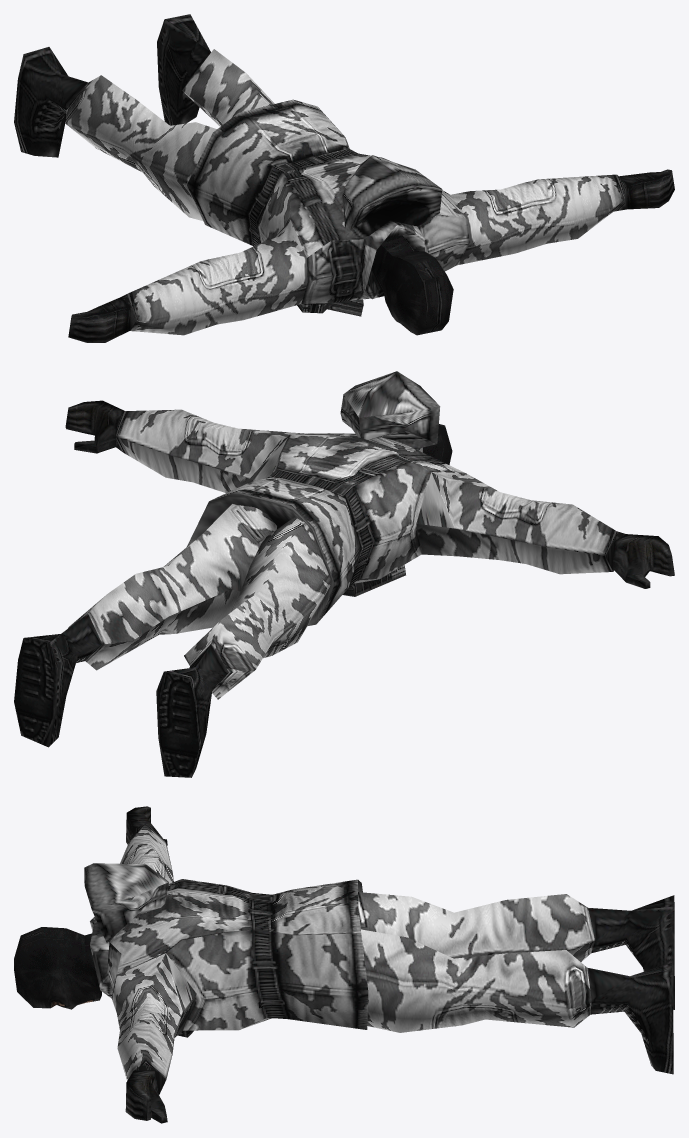
Rendered from arcticout.obj.
The picture shows the model from 3 angles, top to bottom: view 1: azimuth 30°, elevation 25°; view 2: azimuth 150°, elevation 25°; view 3: azimuth 270°, elevation 25°; orthographic projection.
Parts seen in each view (by area): view 1: rdmobj00, rdmobj02; view 2: rdmobj00, rdmobj02; view 3: rdmobj00, rdmobj02.
Boxes of the visible parts, x1=… form: rdmobj00: x1=14, y1=14, x2=674, y2=342; rdmobj02: x1=371, y1=235, x2=453, y2=335; rdmobj00: x1=14, y1=371, x2=674, y2=777; rdmobj02: x1=423, y1=424, x2=452, y2=464; rdmobj00: x1=84, y1=806, x2=674, y2=1123; rdmobj02: x1=14, y1=927, x2=101, y2=1009.
Size of the model in its own units: 72.69 by 20.13 by 68.65.
